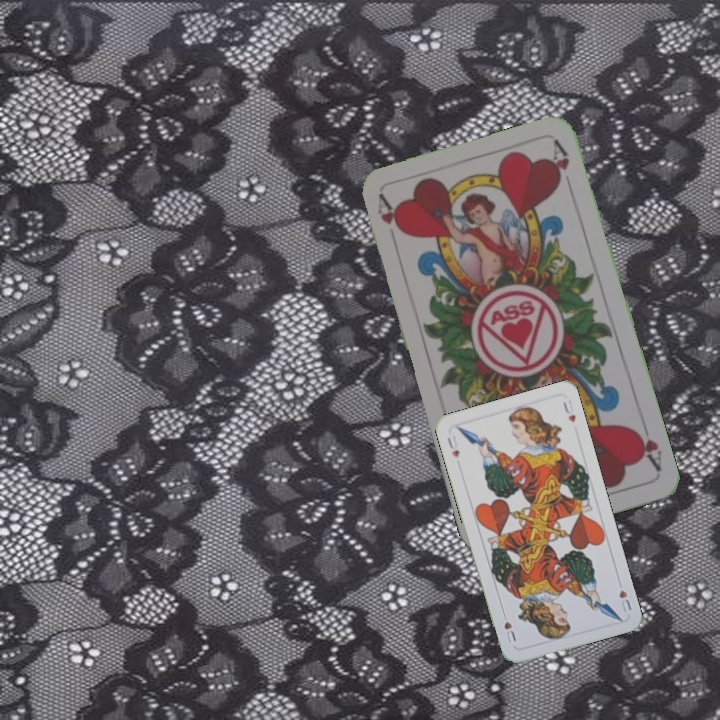HA: (629, 416, 665, 474), (373, 191, 405, 236)
HU: (443, 431, 462, 461), (615, 586, 634, 615)
